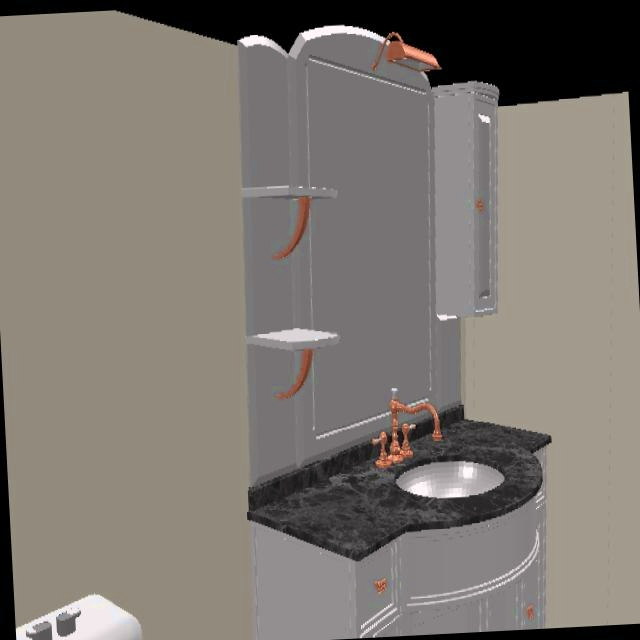cabinet: (250, 423, 551, 640)
shelf: (241, 182, 338, 338), (248, 334, 331, 403)
toilet: (16, 594, 143, 640)
washbasin: (358, 456, 541, 524)
